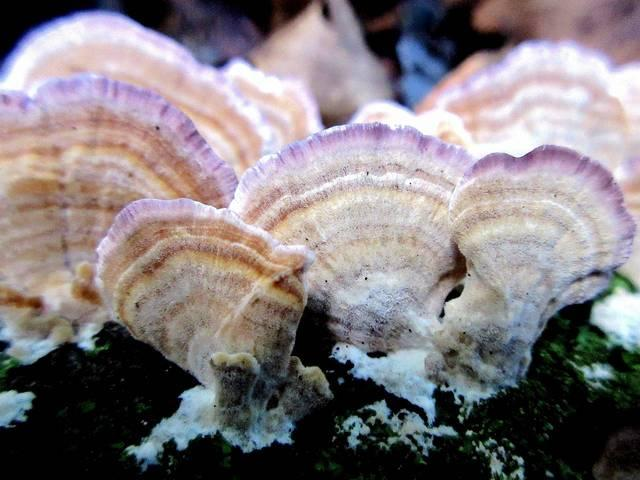poisonous_mushroom: (0, 0, 640, 392), (94, 195, 330, 433)
